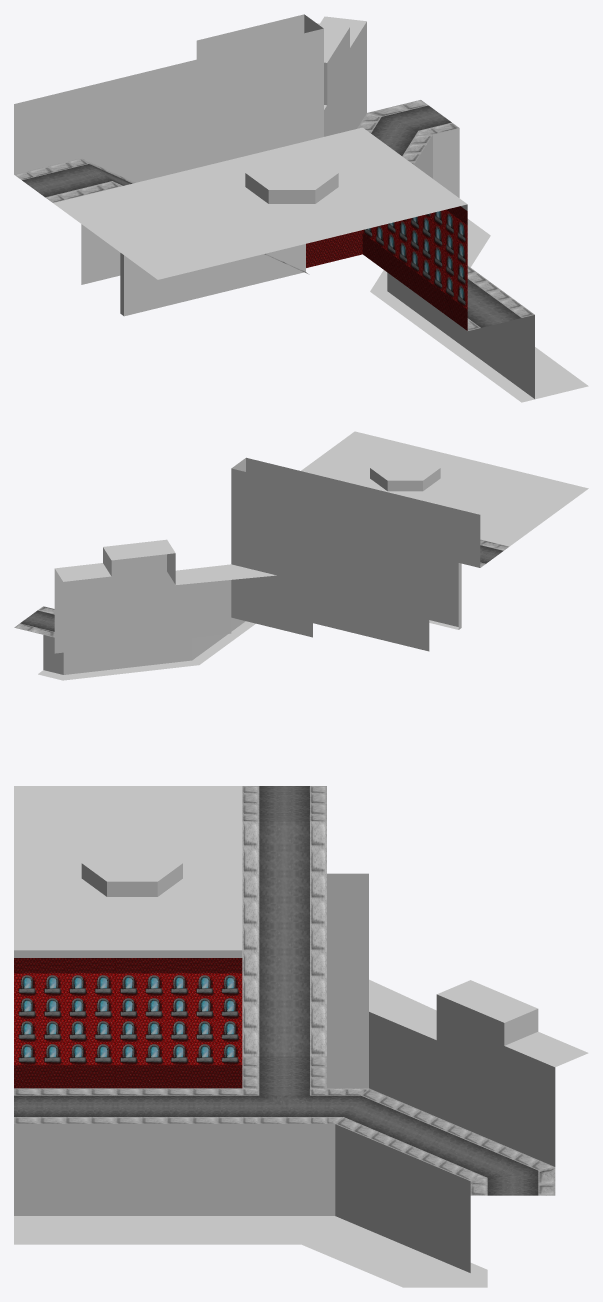
File: city.glb
3 renders of one model, top to bottom at view 1: azimuth 30°, elevation 25°; view 2: azimuth 150°, elevation 25°; view 3: azimuth 270°, elevation 25°, orthographic. The views are drawn at different scales.
Parts seen in each view (by area): view 1: Plane-col; view 2: Plane-col; view 3: Plane-col.
Boxes of the visible parts, <box> form: Plane-col: <box>14,14,588,402</box>; Plane-col: <box>14,431,588,680</box>; Plane-col: <box>14,786,588,1287</box>.
Size of the model in its own units: 76 by 40 by 68.
5 materials, 4 textured.
